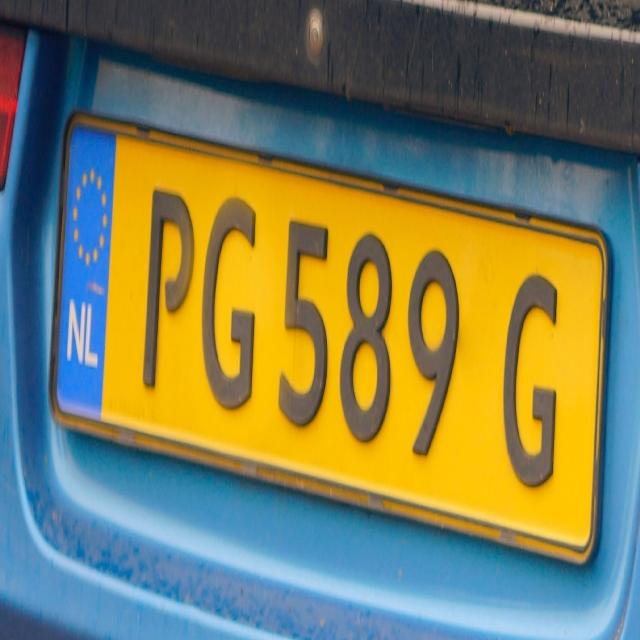EU: (52, 114, 604, 555)
Pays-Bas: (53, 116, 118, 425)
